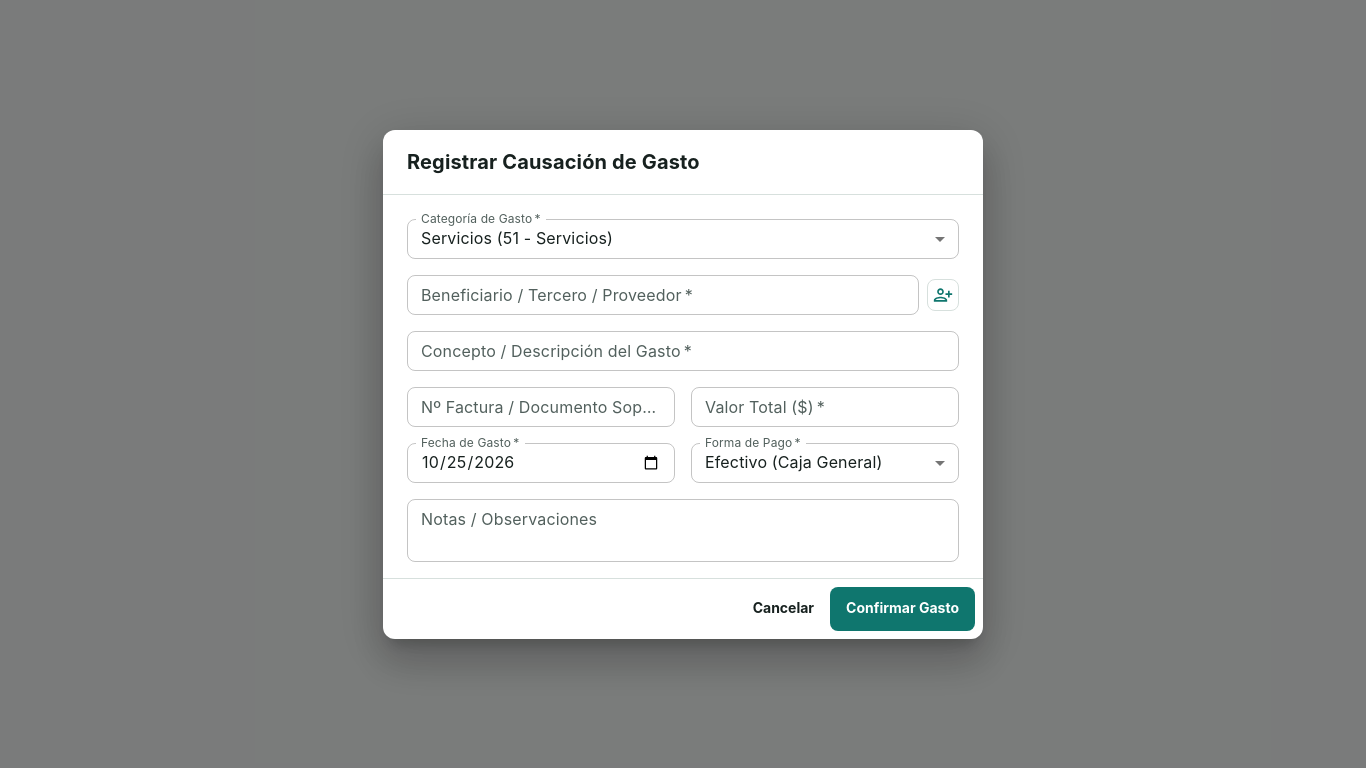
Causación de gastos › rechaza el formulario vacío y lleva foco al beneficiario inválido
Click the button "Confirmar Gasto": (903, 608) [830,586,975,630]
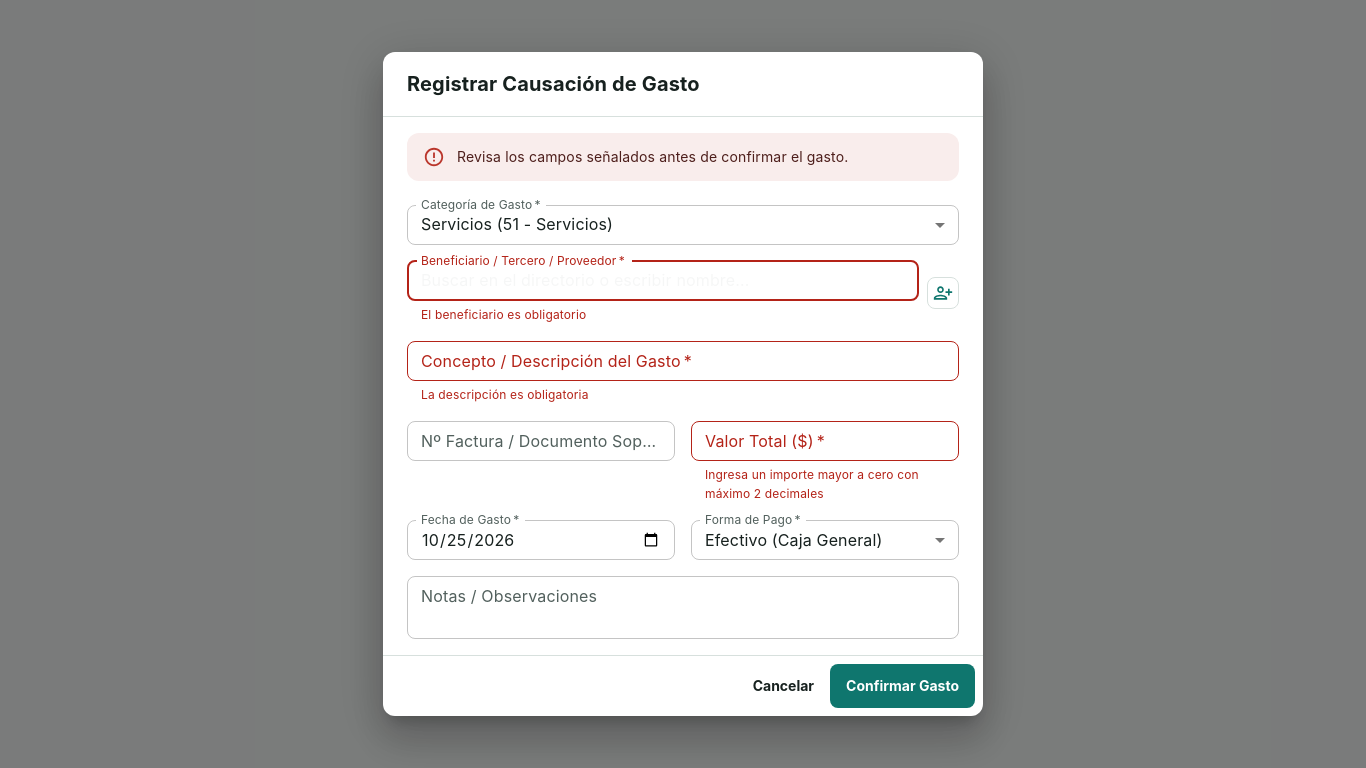
Expected: the text "El beneficiario es obligatorio" is shown, [421,307,586,322]
Expected: the text "La descripción es obligatoria" is shown, [421,387,588,402]
